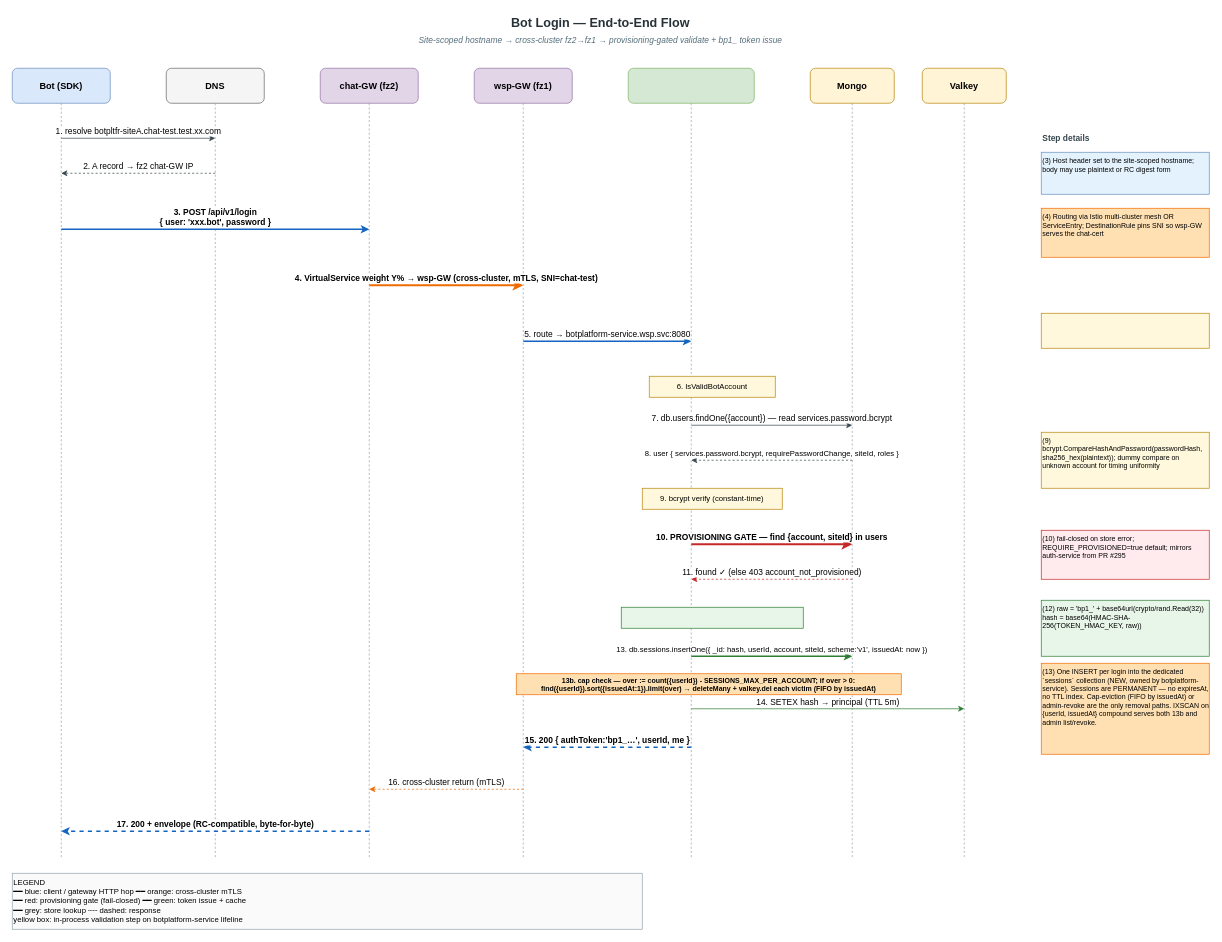
Some shapes in this 1222 by 942 pixel diagram are drawn without their labels. Each missing label, with the box of its shape:
(6) IsValidBotAccount allows ^[A-Za-z0-9_-]+\.bot$ (xxx.bot, yyy.bot): (1041, 313, 1209, 348)
12. issue v1 token (bp1_ + HMAC-SHA-256): (621, 607, 803, 628)
botplatform-service: (628, 68, 754, 103)
